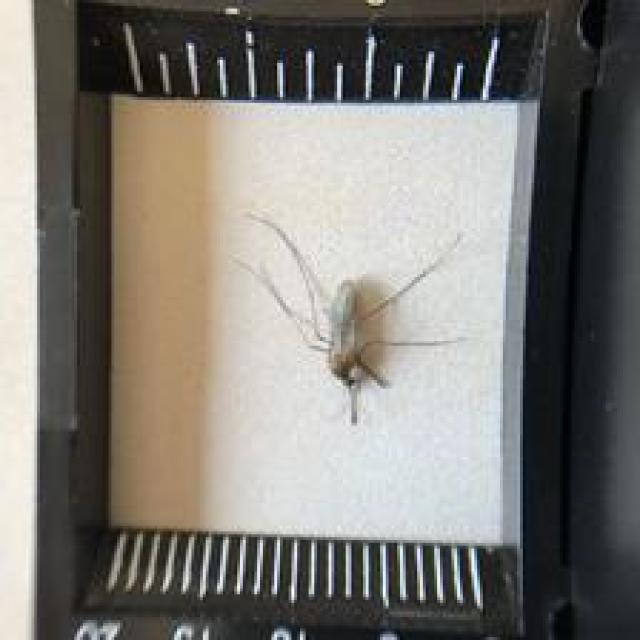Culex: (234, 208, 466, 426)
